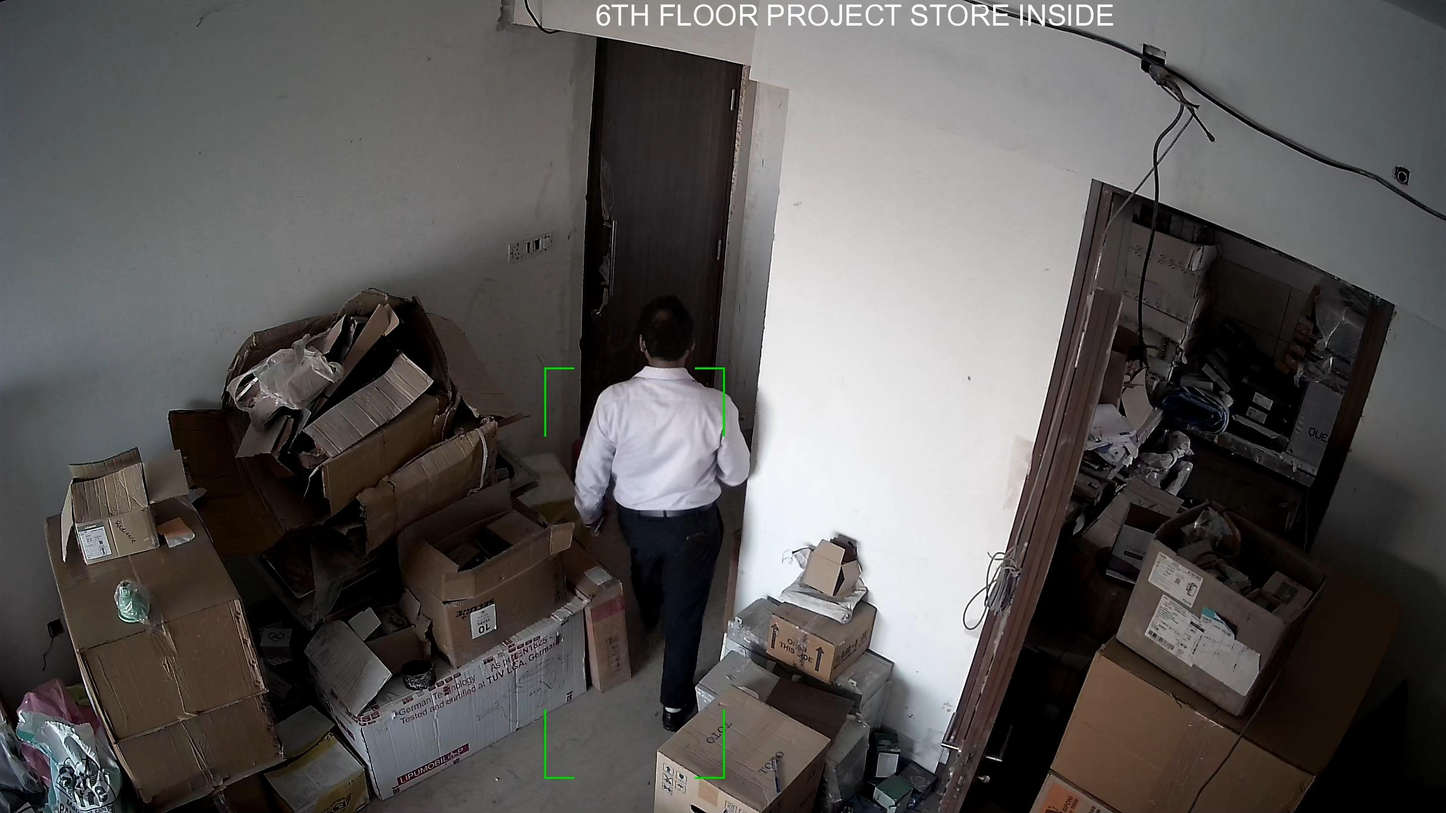Door-Close: (572, 36, 758, 449)
